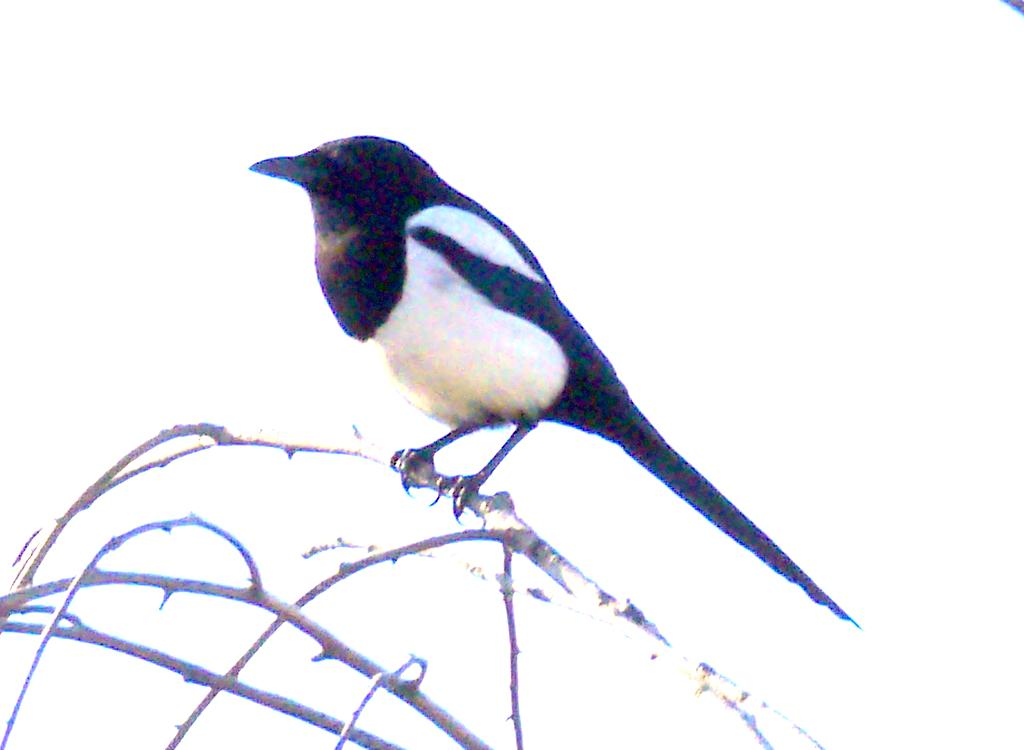PicaPica: (245, 134, 868, 637)
